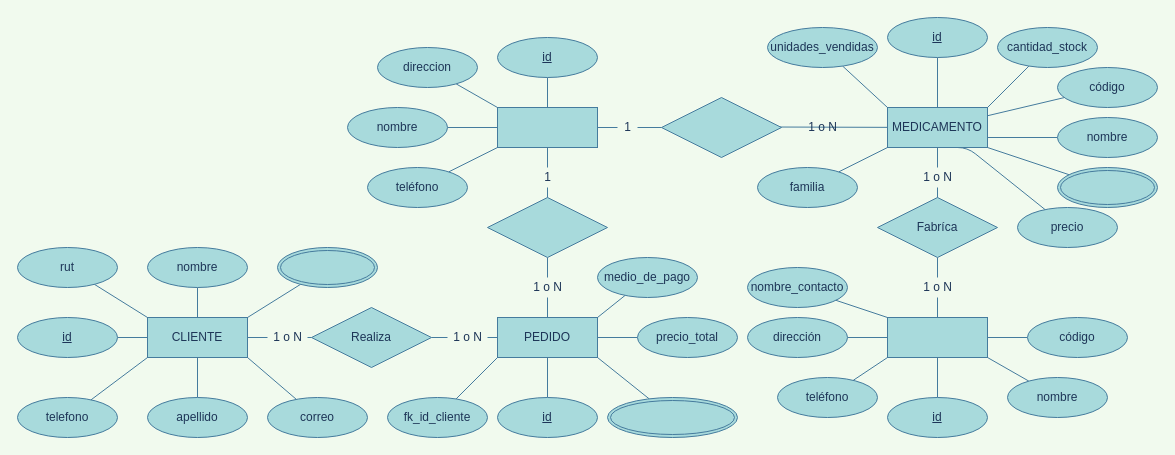
This 1175x455 diagram has some shape labels left out. The shapes that lost their labels are listed below. From the top down, each one's centre as x and y in pixels, then its label:
(x=547, y=127): FARMACIA
(x=721, y=127): Adquiere
(x=1107, y=187): tipo
(x=547, y=227): Reserva
(x=327, y=267): datos_bancarios
(x=937, y=337): LABORATORIO
(x=672, y=417): fk_id_medicamentos
